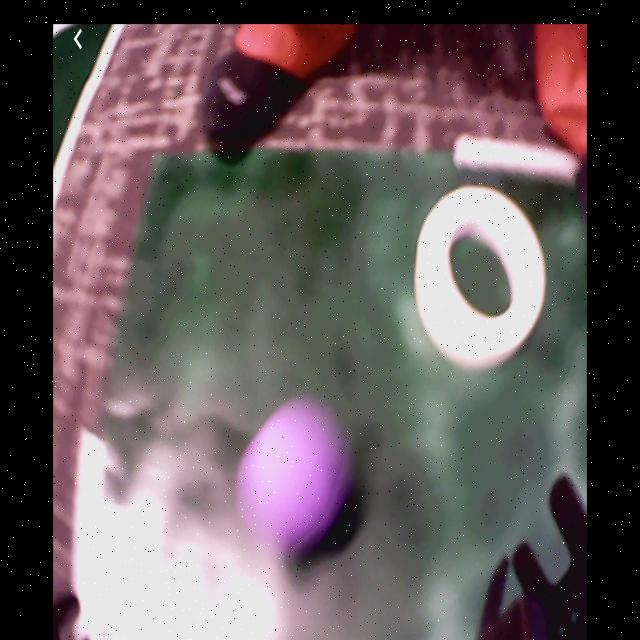ball: (254, 421, 338, 542)
